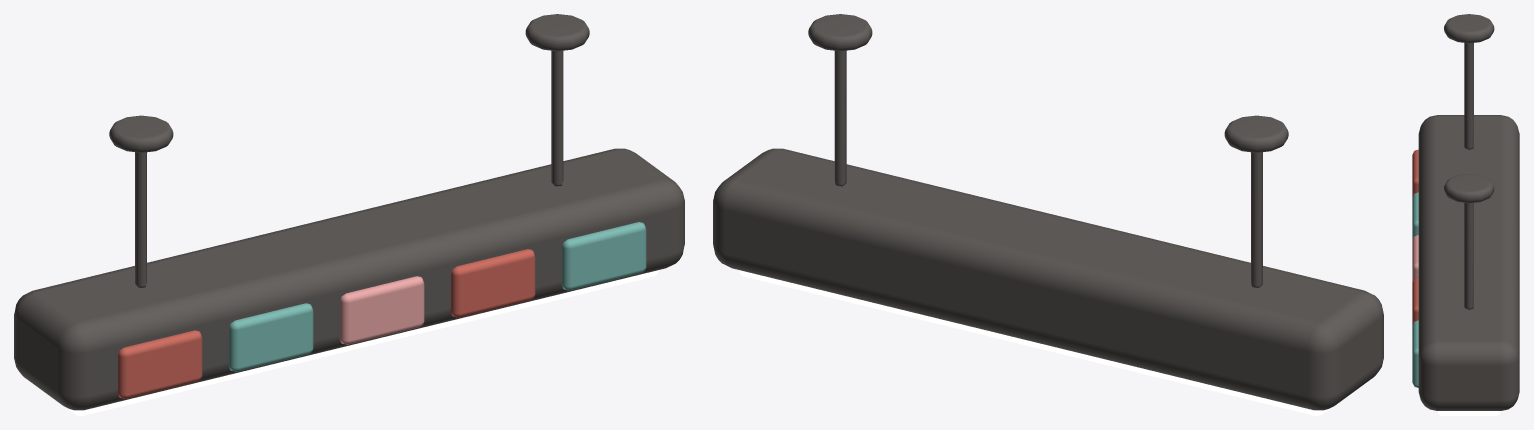
The model's file is stage_light_bar.glb.
The picture shows the model from 3 angles, left to right: view 1: azimuth 30°, elevation 25°; view 2: azimuth 150°, elevation 25°; view 3: azimuth 270°, elevation 25°; orthographic projection. The views are drawn at different scales.
Parts seen in each view (by area): view 1: stage_light_bar_mesh; view 2: stage_light_bar_mesh; view 3: stage_light_bar_mesh.
Boxes of the visible parts, x1,y1,x2,y2 form: stage_light_bar_mesh: (14, 14, 684, 415); stage_light_bar_mesh: (713, 14, 1383, 415); stage_light_bar_mesh: (1412, 14, 1519, 415).
Size of the model in its own units: 0.9 by 0.355 by 0.17.
